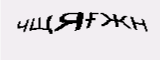В: (29, 20, 47, 43)
Г: (46, 22, 59, 45)
Ж: (95, 26, 127, 54)
Л: (57, 26, 76, 52)
С: (77, 26, 95, 55)
